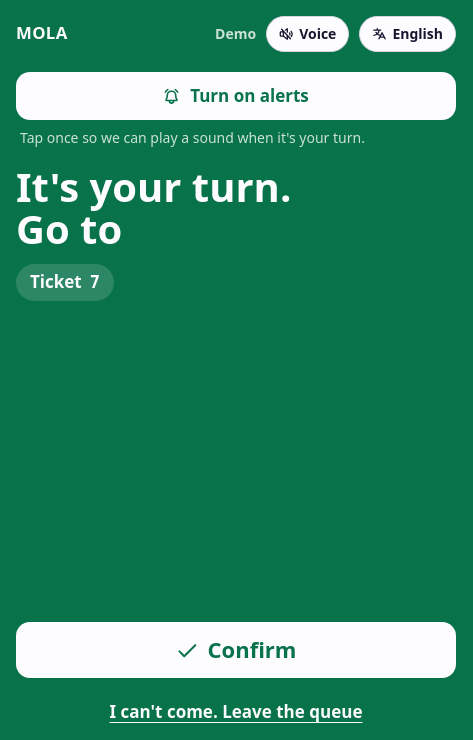
Test case: audio alerts after a resume › offers alerts for a restored called ticket and unlocks both players
The width and height of the screenshot is (473, 740).
expect the text "Tap once so we can play a sound when it's your turn." is shown: met, box [20,128,365,147]
Step 1. Click the button "Turn on alerts" → (236, 96), box [16,72,456,120]
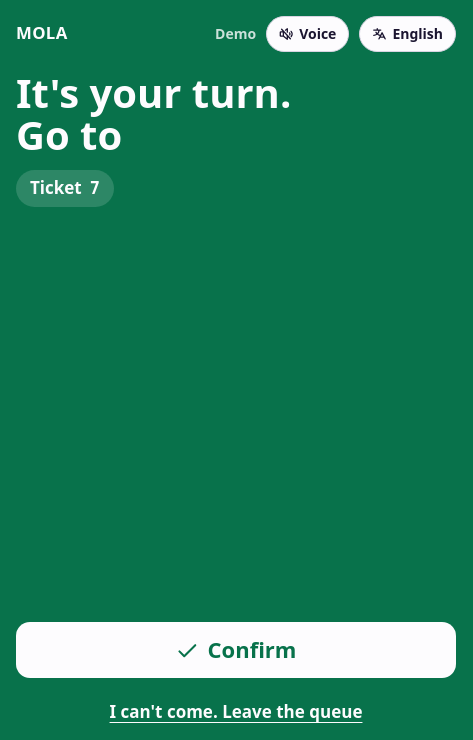
expect the button "Turn on alerts" is gone: met
